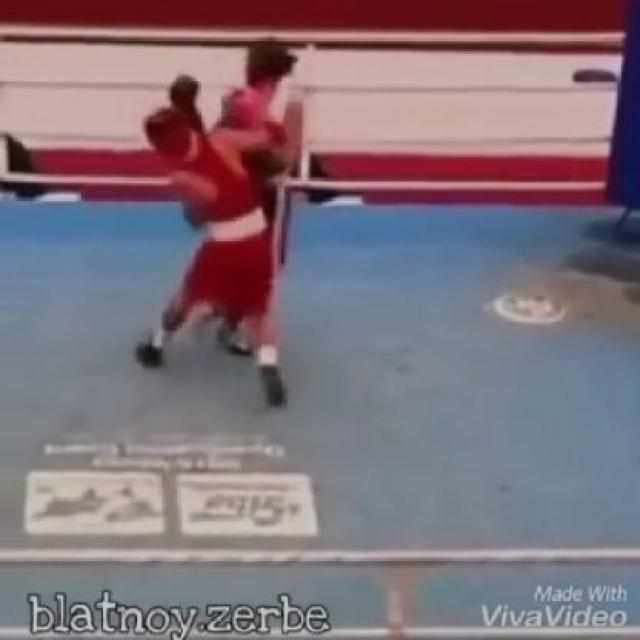fight: (103, 17, 351, 414)
